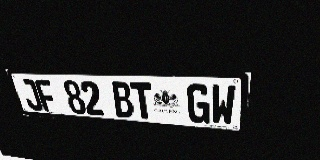2: (79, 81, 104, 116)
8: (62, 80, 87, 114)
B: (110, 81, 135, 118)
F: (34, 79, 59, 112)
G: (186, 84, 210, 124)
J: (19, 79, 44, 111)
T: (130, 82, 154, 120)
W: (211, 84, 236, 126)
